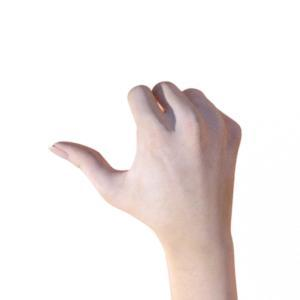rock: (52, 82, 241, 300)
